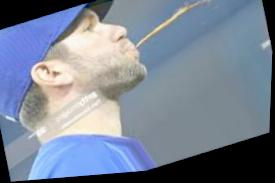spitting: (0, 0, 259, 182)
